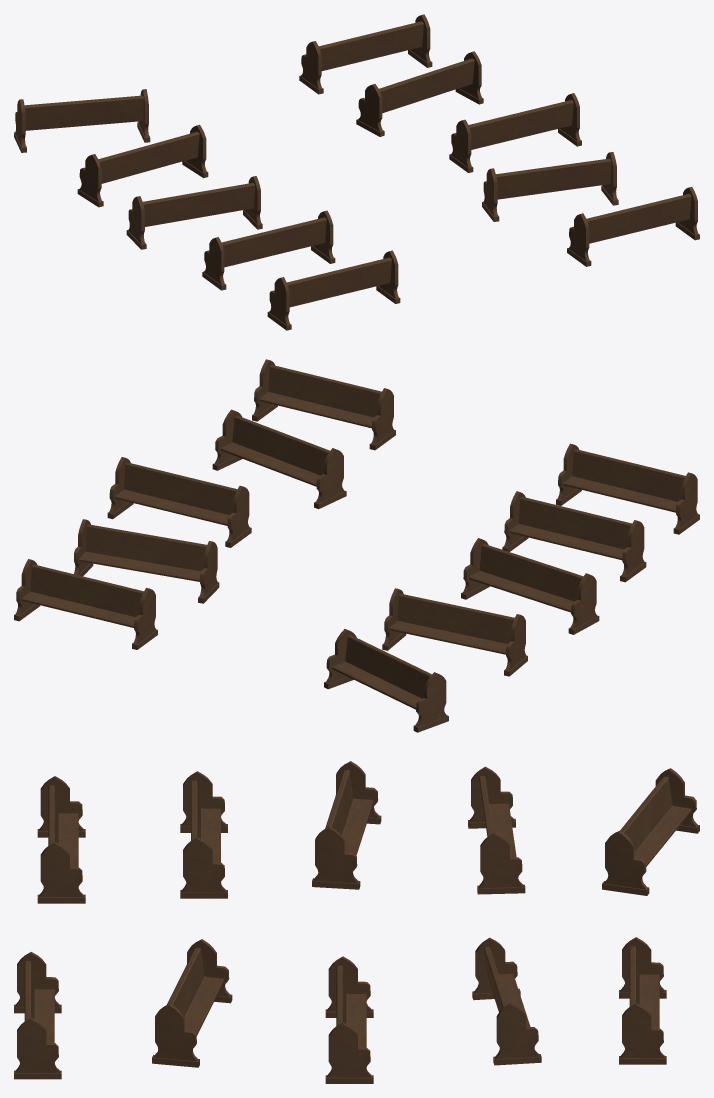
The model's file is Bancos.fbx.
3 views of the same model, one above another, from view 1: azimuth 30°, elevation 25°; view 2: azimuth 150°, elevation 25°; view 3: azimuth 270°, elevation 25° (orthographic). The views are drawn at different scales.
Parts seen in each view (by area): view 1: SM_CeilingSlant20.001; view 2: SM_CeilingSlant20.001; view 3: SM_CeilingSlant20.001.
Boxes of the visible parts, bbox=[...] form: SM_CeilingSlant20.001: bbox=[14, 14, 699, 330]; SM_CeilingSlant20.001: bbox=[14, 359, 699, 732]; SM_CeilingSlant20.001: bbox=[14, 761, 699, 1083].
Bounding box in the file's own units: 5.02 × 0.5223 × 5.49.
